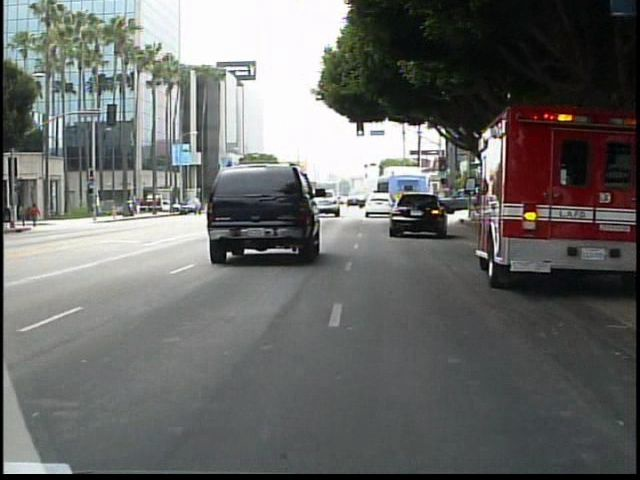person: (30, 199, 44, 229), (17, 201, 30, 230)
